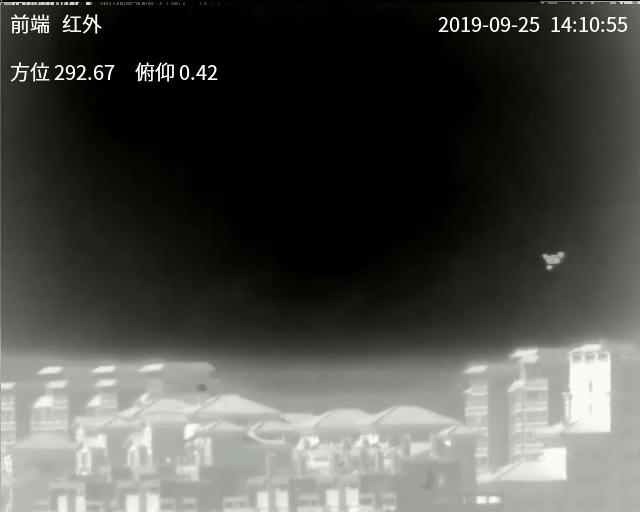uav: (540, 249, 564, 273)
